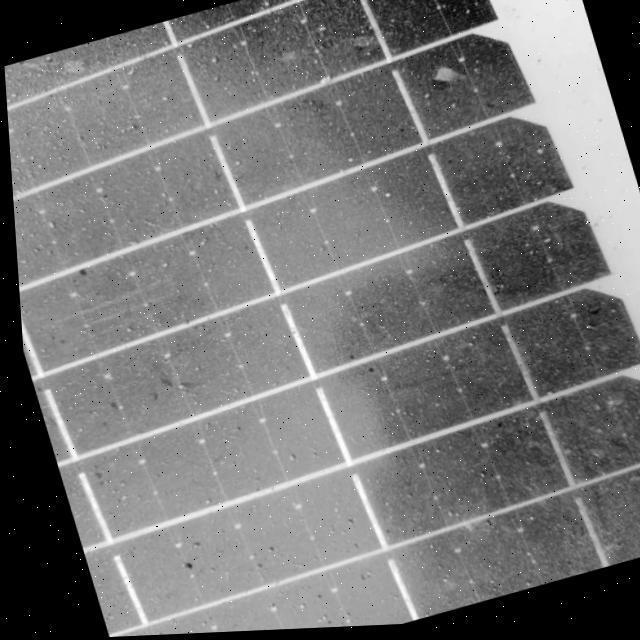Surface Contaminant: (3, 0, 640, 638)
